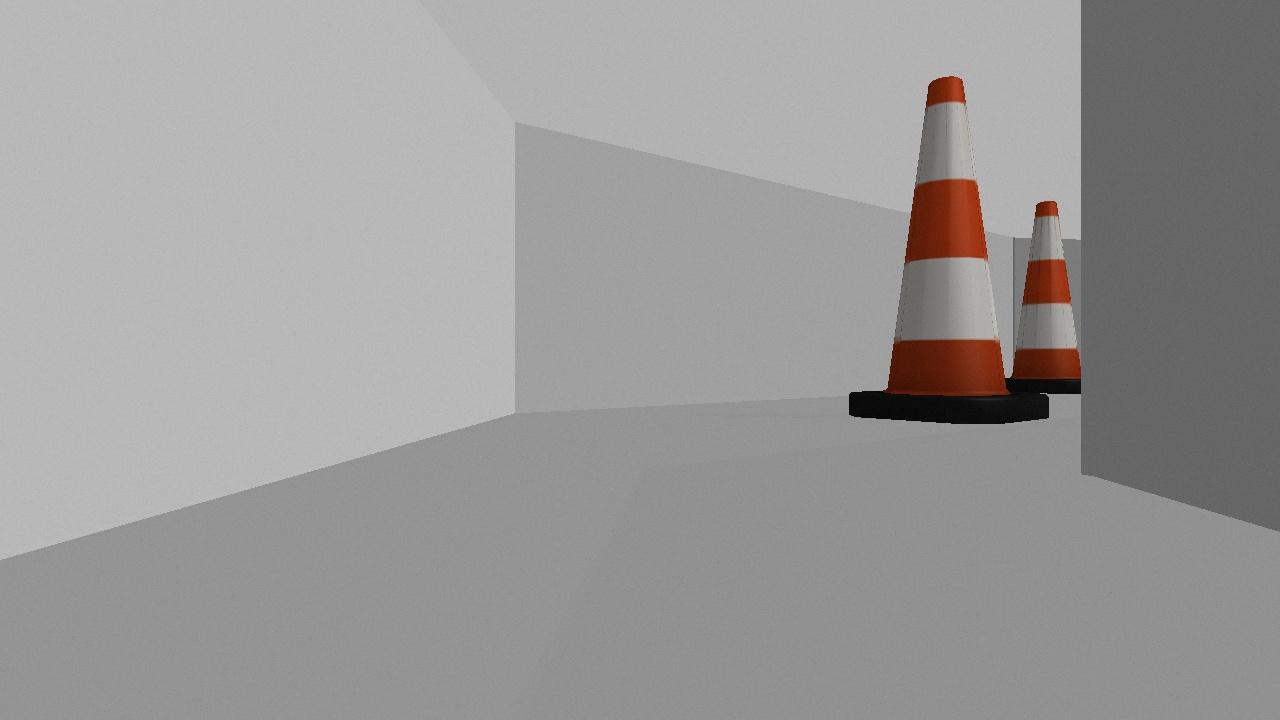barricade: (849, 71, 1047, 424), (1004, 199, 1096, 394)
